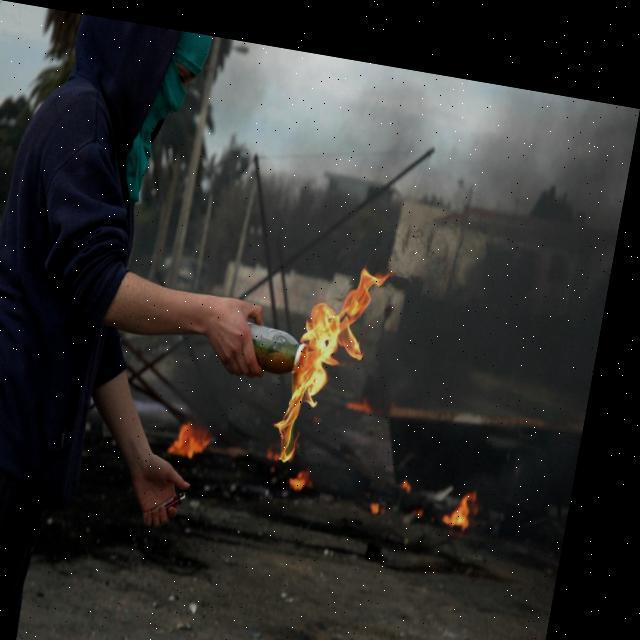Fire: (286, 235, 394, 456), (183, 408, 230, 452), (456, 467, 494, 514), (302, 452, 332, 482)
